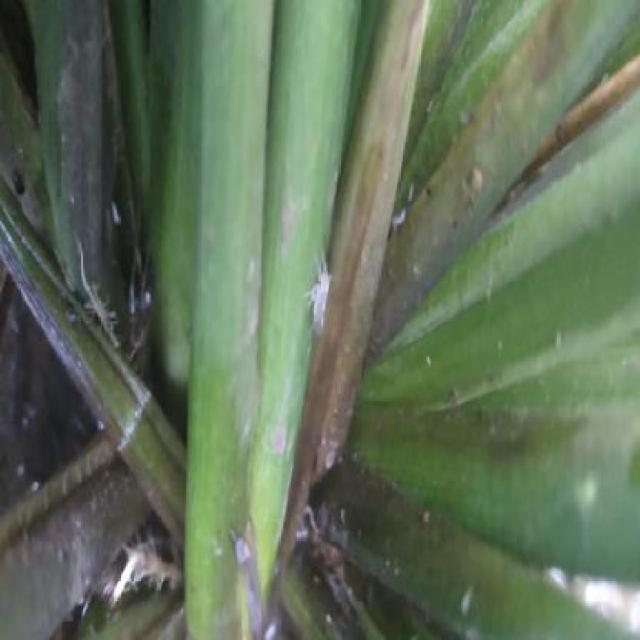wereng pada daun padi: (244, 178, 366, 366)
